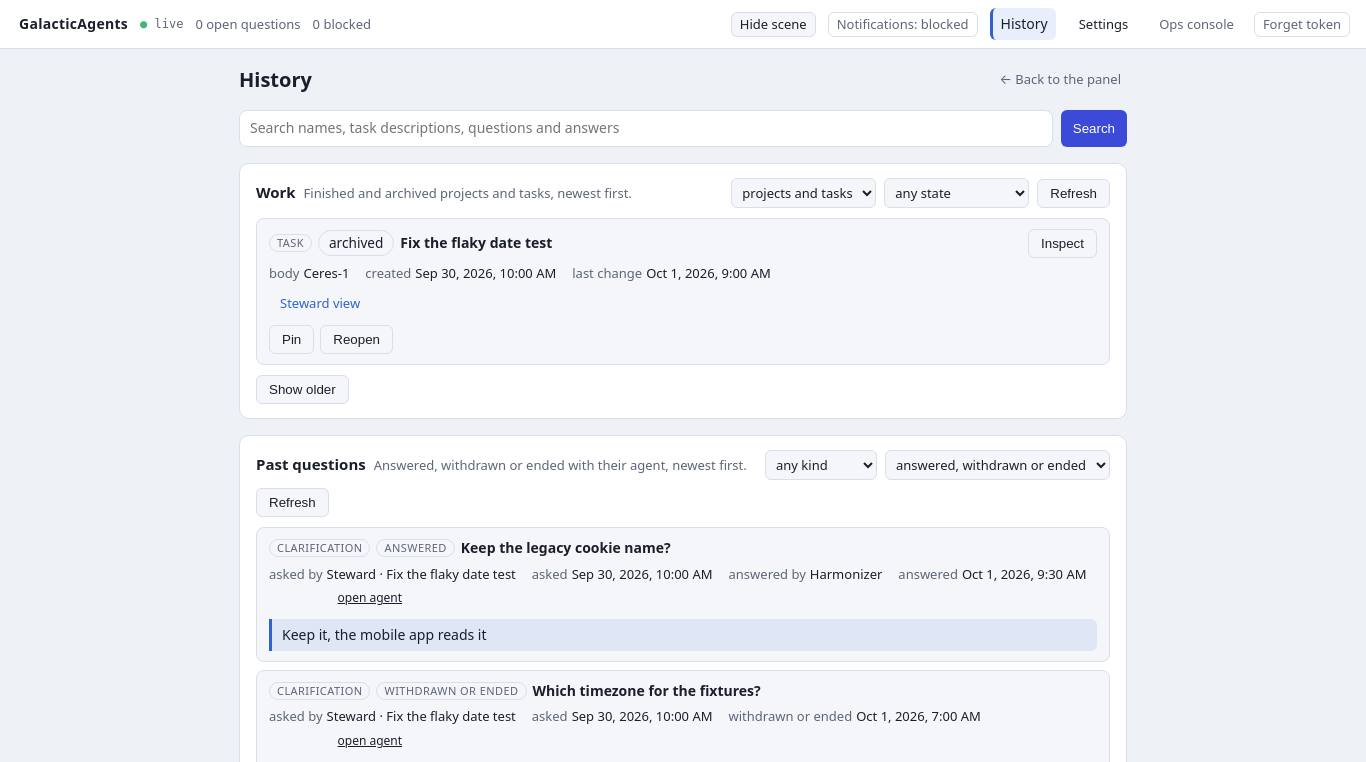
Test: history inspector (P5-03) › shows each past question’s holder chain, escalations and reassignments in order
The image size is (1366, 762).
Type "old urls" into the search field named "Search the history" at (646, 128), box [239,110,1053,147]
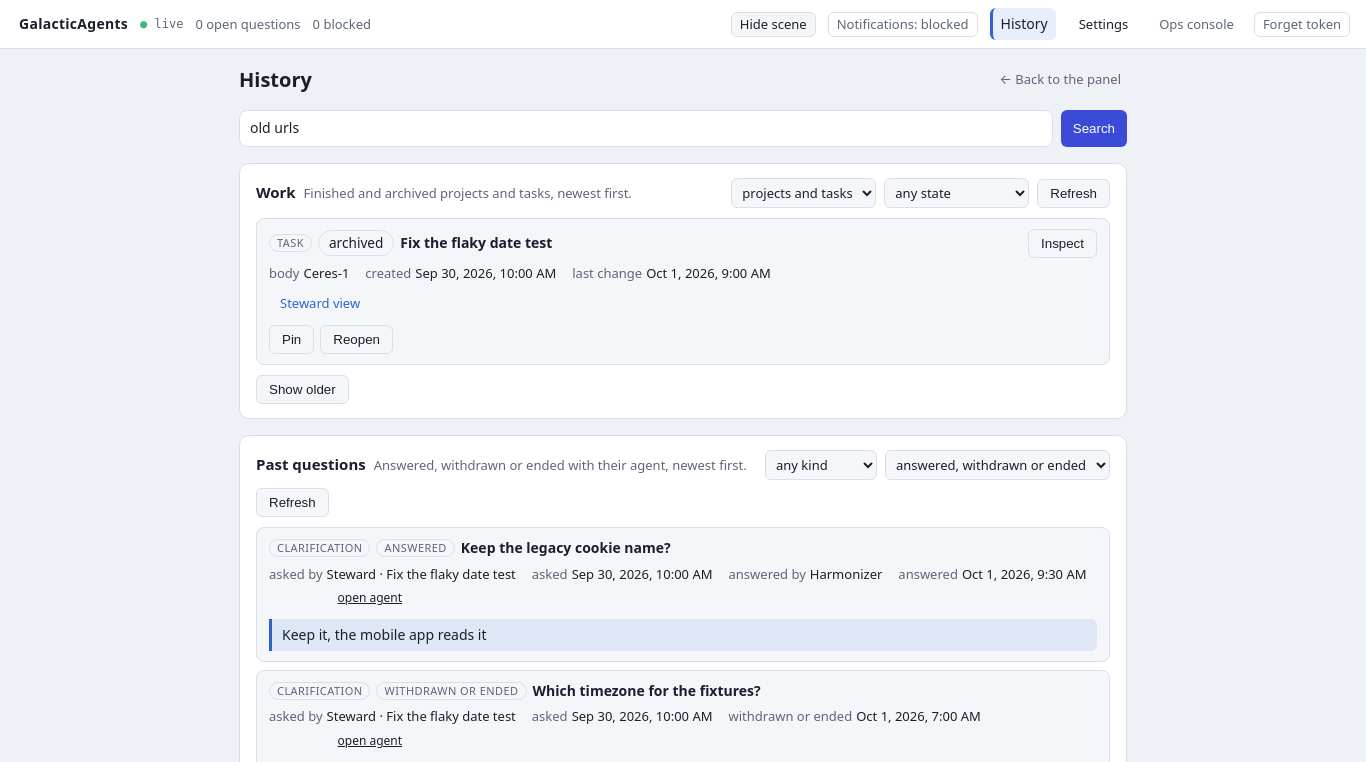
Submit the form, box [239,110,1127,147]
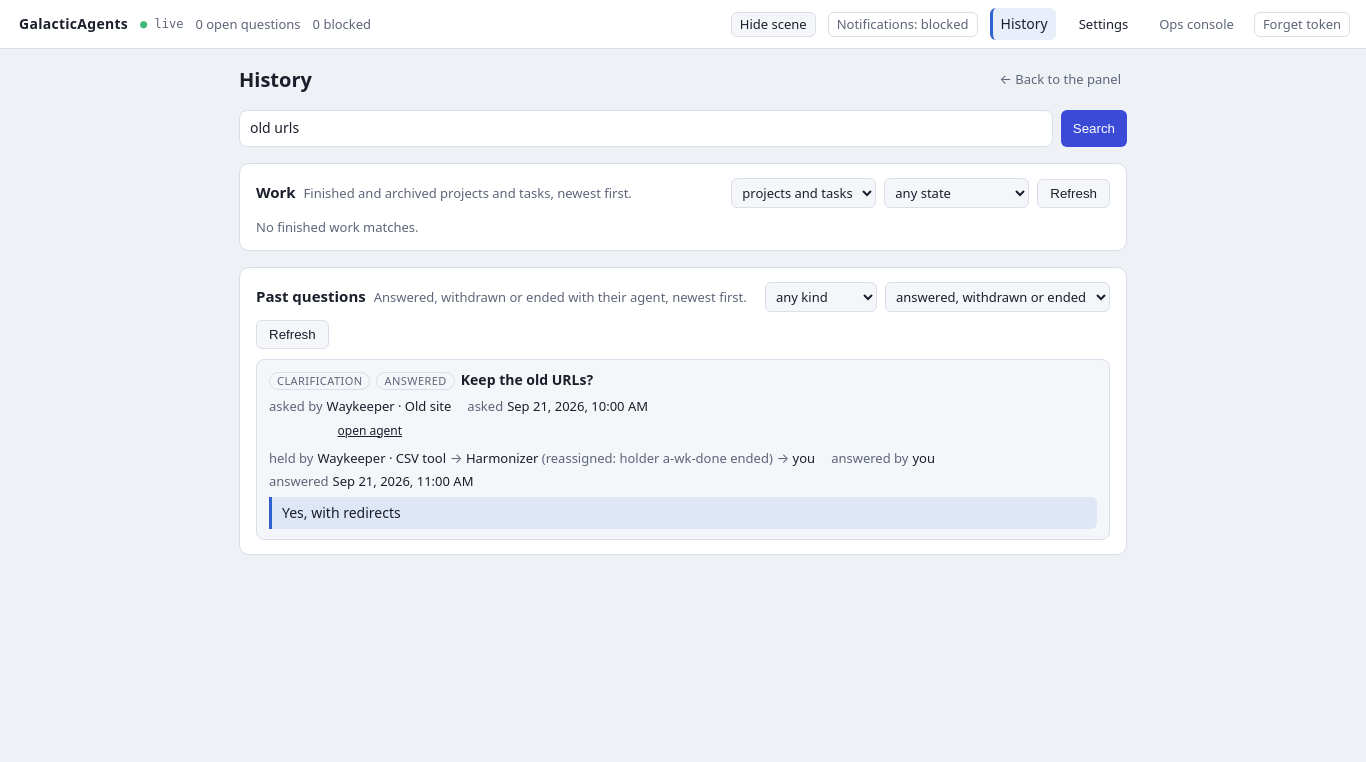
Expected: the list items read "Waykeeper · CSV tool", "Harmonizer (reassigned: holder a-wk-done ended)", "you", in this order, [318,449,446,468]; [450,449,773,468]; [777,449,815,468]
Expected: the text "you" is shown, [912,449,935,468]
